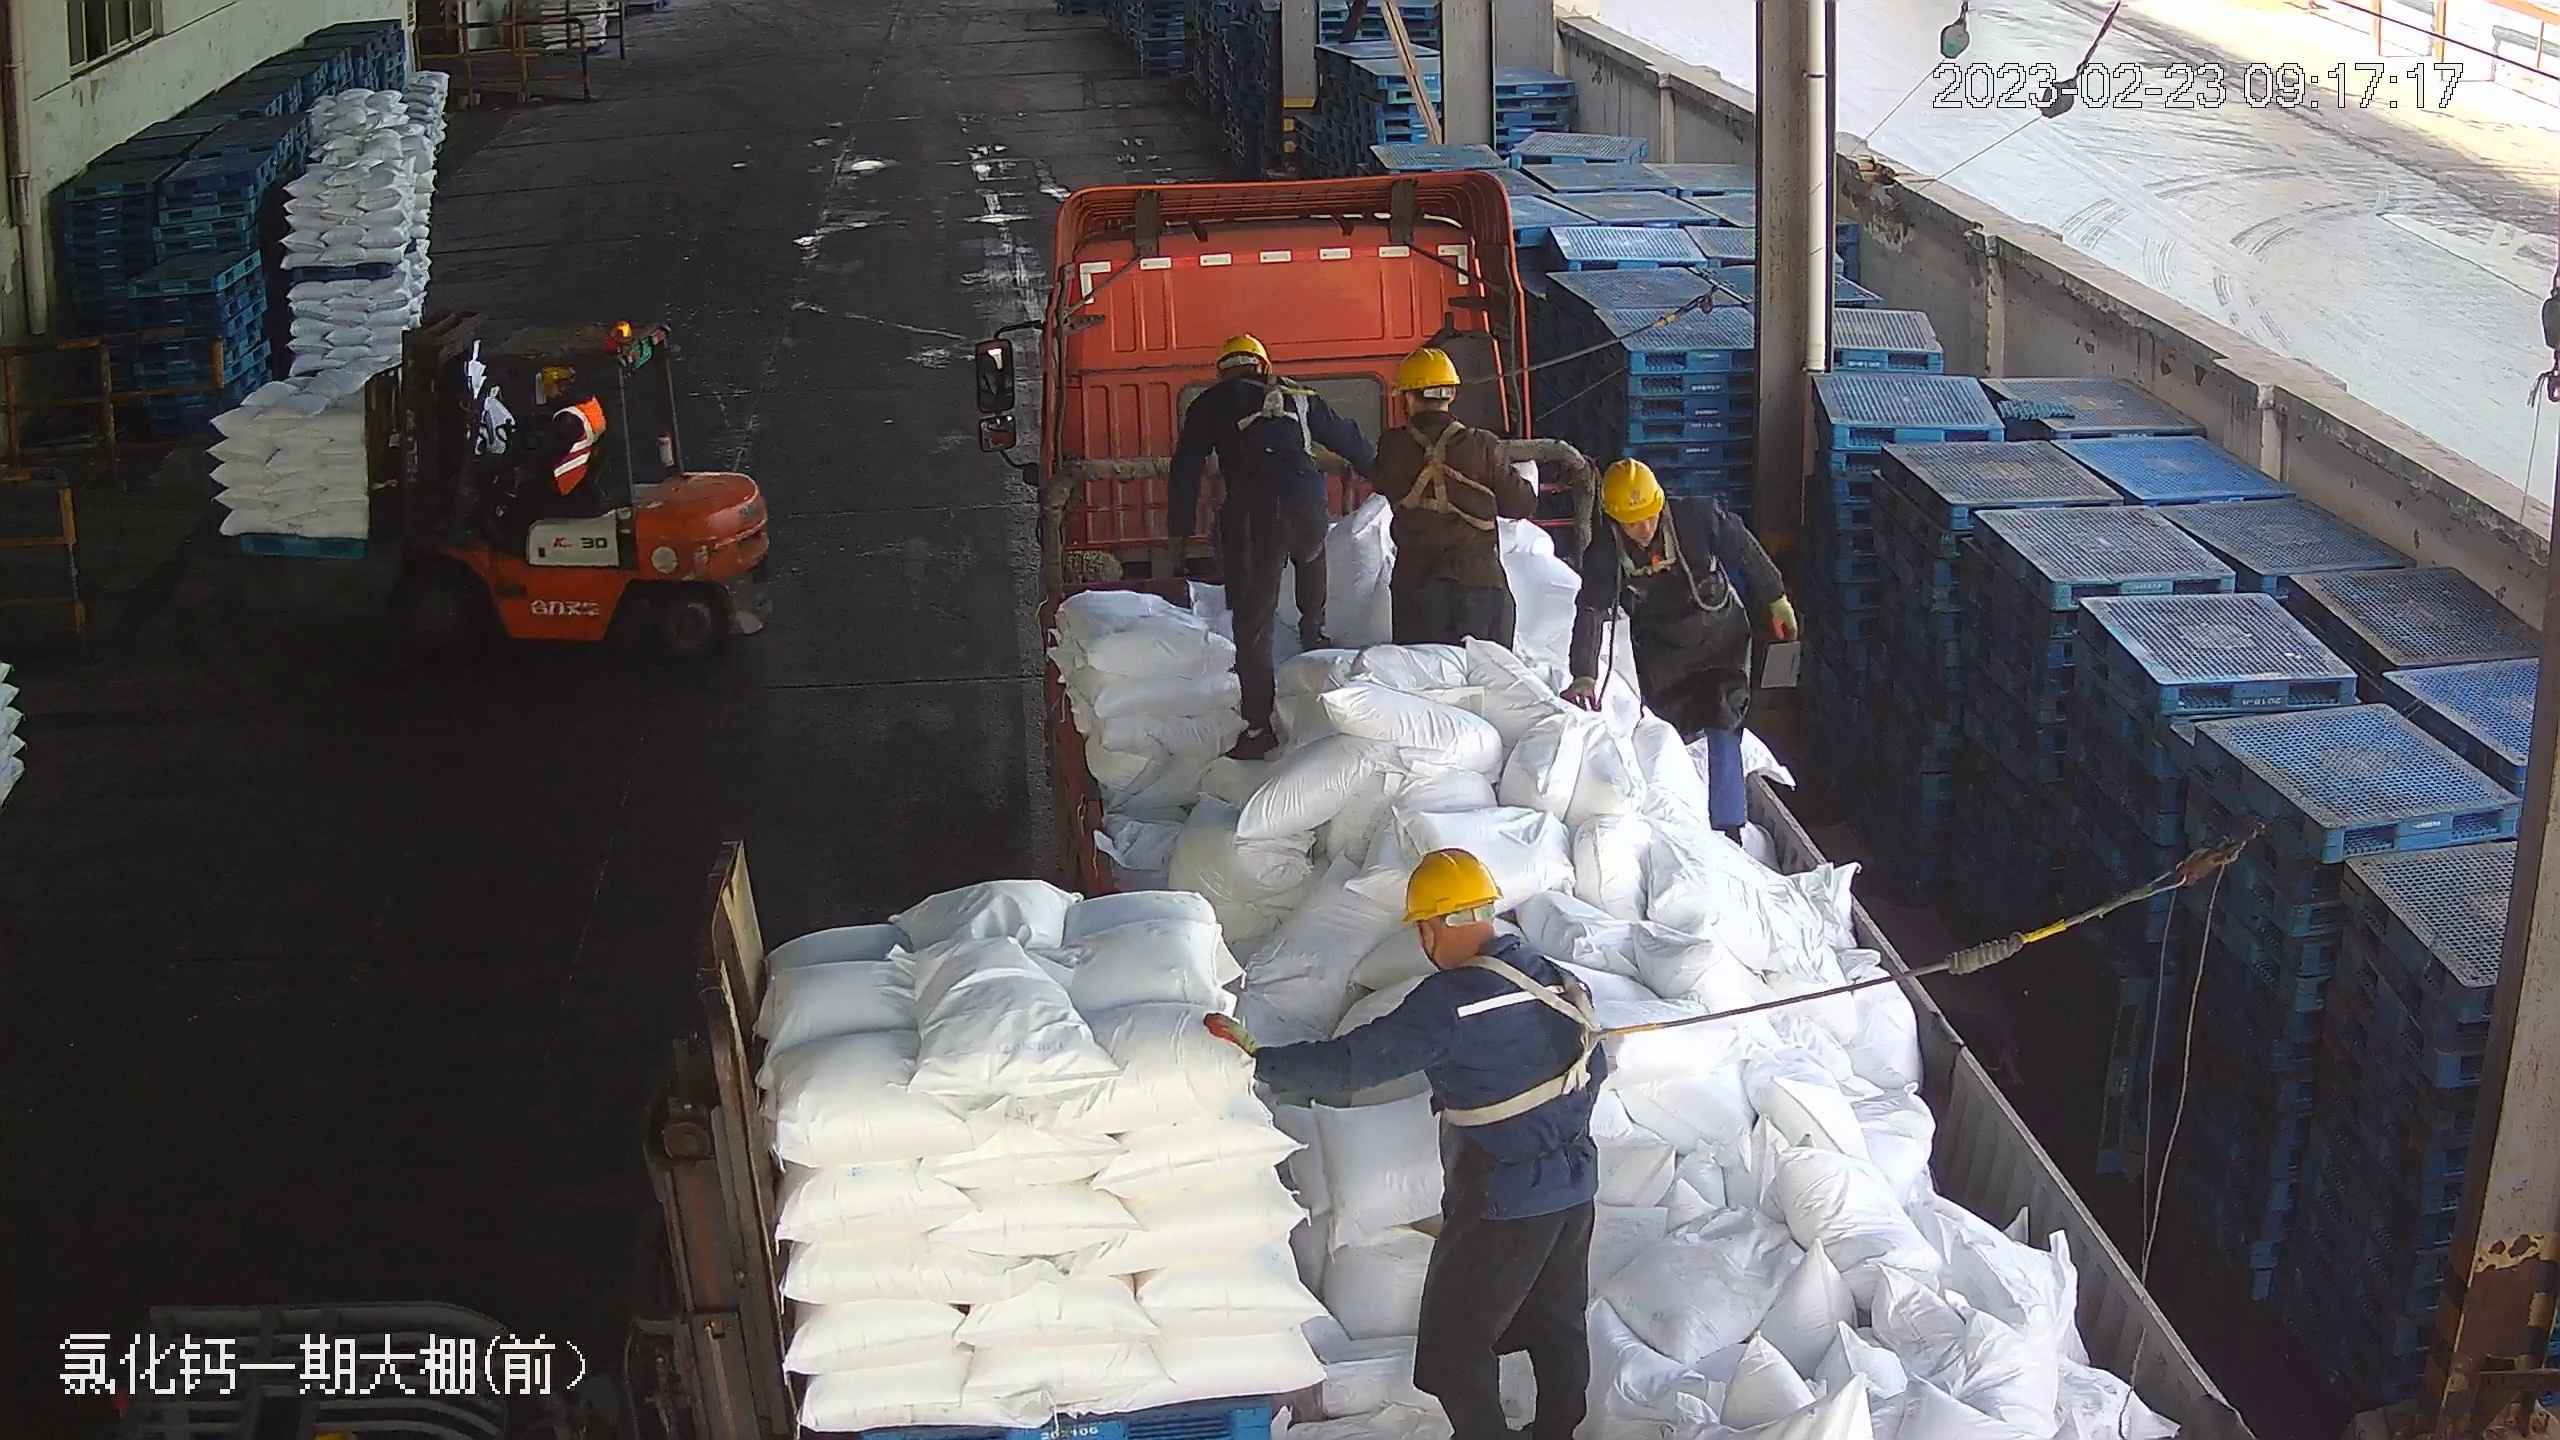belt: (1454, 961, 1666, 1124), (1397, 420, 1489, 518), (1229, 368, 1312, 436)
head: (1385, 852, 1574, 1063), (1582, 459, 1718, 580), (1379, 346, 1492, 482), (1200, 332, 1304, 427), (531, 362, 597, 438)
helmet: (1395, 847, 1503, 923), (1594, 455, 1666, 521), (1387, 343, 1463, 392), (1213, 330, 1268, 369), (536, 361, 572, 390)
people: (1214, 844, 1604, 1437), (1564, 455, 1787, 852), (1166, 329, 1360, 760), (1344, 344, 1533, 672), (484, 357, 602, 531)
truck: (977, 166, 2257, 1439)
